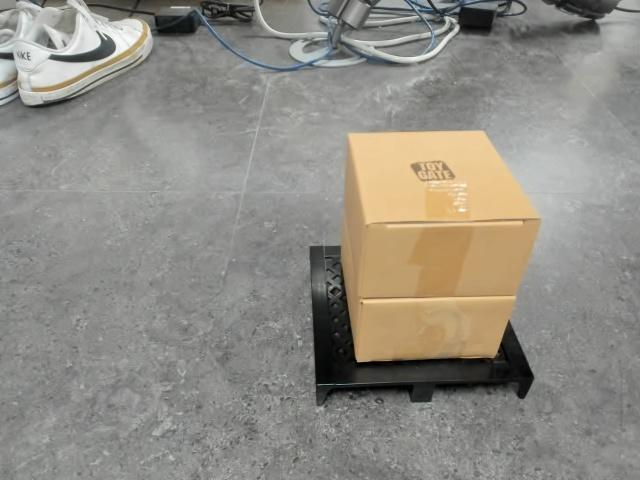box: (308, 133, 538, 399)
